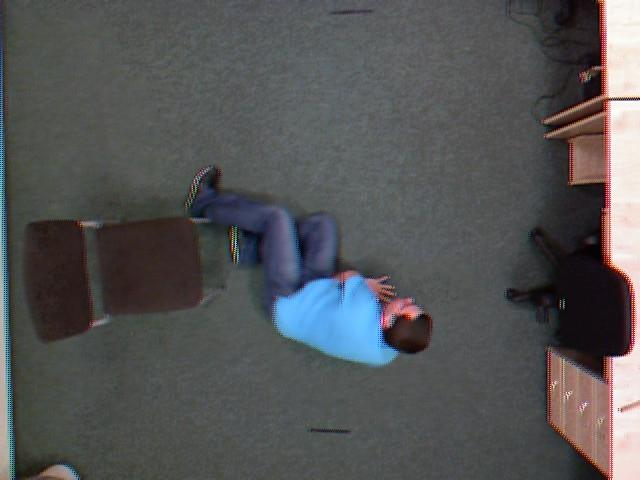fall: (179, 160, 445, 378)
